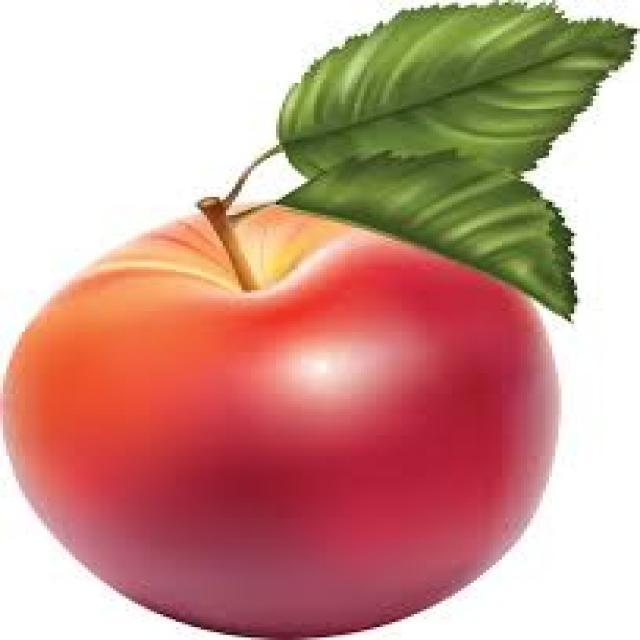Fresh Apple: (5, 160, 570, 640)
